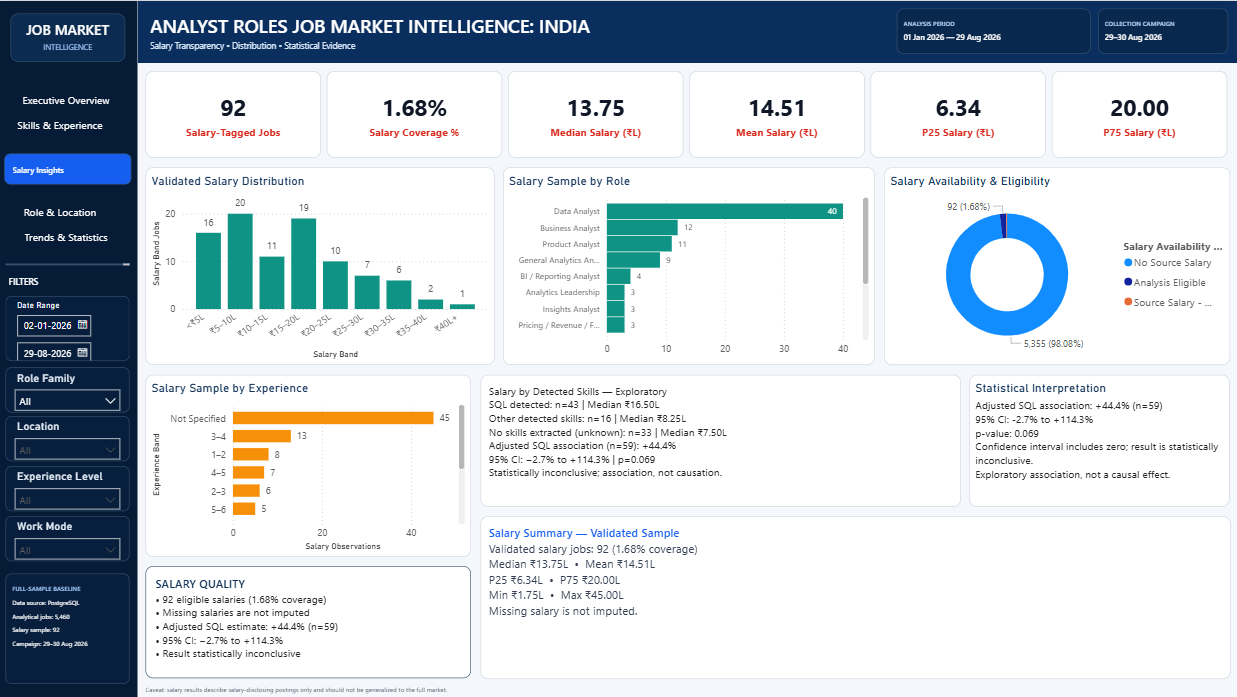

Layout of this report page (visuals, bound fields, positions):
{"tool":"powerbi","page":{"name":"Salary Insights ","canvas":[1600,900],"ordinal":2},"visuals":[{"type":"textbox","box":[0,0,180,900],"z":0},{"type":"textbox","box":[16,16,148,62],"z":1000},{"type":"textbox","box":[8,197,164,40],"z":2000},{"type":"textbox","box":[10,338,160,2],"z":3000},{"type":"textbox","box":[10,348,160,28],"z":4000},{"type":"slicer","fields":{"Values":["Jobs.Posted Date"]},"box":[10,380,160,84],"z":5000},{"type":"slicer","fields":{"Values":["Jobs.Role Family"]},"box":[10,472,160,58],"z":6000},{"type":"slicer","fields":{"Values":["Jobs.Specific City"]},"box":[10,536,160,58],"z":7000},{"type":"slicer","fields":{"Values":["Jobs.Experience Band"]},"box":[10,600,160,58],"z":8000},{"type":"slicer","fields":{"Values":["Jobs.Work Mode"]},"box":[10,664,160,58],"z":9000},{"type":"textbox","box":[10,738,160,142],"z":10000},{"type":"textbox","box":[180,0,1420,80],"z":11000},{"type":"textbox","box":[1160,10,250,58],"z":12000},{"type":"textbox","box":[1420,10,168,58],"z":13000},{"type":"columnChart","title":"Validated Salary Distribution","fields":{"Category":["Jobs.Salary Band"],"Y":["Jobs.Salary Band Jobs"]},"box":[190,215,450,255],"z":14000},{"type":"barChart","title":"Salary Sample by Role","fields":{"Category":["Jobs.Role Family"],"Y":["Jobs.Salary Observations"]},"box":[652,215,480,255],"z":15000},{"type":"donutChart","title":"Salary Availability & Eligibility","fields":{"Category":["Jobs.Salary Availability Group"],"Y":["Jobs.Analytical Vacancies"]},"box":[1144,215,446,255],"z":16000},{"type":"barChart","title":"Salary Sample by Experience","fields":{"Category":["Jobs.Experience Band"],"Y":["Jobs.Salary Observations"]},"box":[190,482,420,235],"z":17000},{"type":"textbox","box":[622,482,620,170],"z":18000},{"type":"textbox","title":"Statistical Interpretation","box":[1254,482,336,170],"z":19000},{"type":"textbox","box":[622,664,968,210],"z":20000},{"type":"textbox","box":[190,729,420,145],"z":21000},{"type":"textbox","box":[190,878,1400,18],"z":22000},{"type":"actionButton","box":[0,112,176,32],"z":23000},{"type":"card","fields":{"Values":["Jobs.Salary-Tagged Jobs"]},"box":[190,90,226,112],"z":24000},{"type":"actionButton","box":[0,144,160,32],"z":25000},{"type":"card","fields":{"Values":["Jobs.Salary Coverage %"]},"box":[424,90,226,112],"z":26000},{"type":"card","fields":{"Values":["Jobs.Median Salary (₹L)"]},"box":[658,90,226,112],"z":27000},{"type":"card","fields":{"Values":["Jobs.Mean Salary (₹L)"]},"box":[892,90,226,112],"z":28000},{"type":"card","fields":{"Values":["Jobs.P25 Salary (₹L)"]},"box":[1126,90,226,112],"z":29000},{"type":"card","fields":{"Values":["Jobs.P75 Salary (₹L)"]},"box":[1360,90,226,112],"z":30000},{"type":"actionButton","box":[0,256,160,32],"z":31000},{"type":"actionButton","box":[0,288,176,32],"z":32000}]}

Visuals, with their boxes on the page's 1600x900 design canvas (x1, y1, x2, y2). These are canvas units, not pixel positions in the 1237x697 screenshot, which may show the page scaled, cropped or inside an application window:
textbox: pyautogui.locateOnScreen(0, 0, 180, 900)
textbox: pyautogui.locateOnScreen(16, 16, 164, 78)
textbox: pyautogui.locateOnScreen(8, 197, 172, 237)
textbox: pyautogui.locateOnScreen(10, 338, 170, 340)
textbox: pyautogui.locateOnScreen(10, 348, 170, 376)
slicer - Jobs.Posted Date: pyautogui.locateOnScreen(10, 380, 170, 464)
slicer - Jobs.Role Family: pyautogui.locateOnScreen(10, 472, 170, 530)
slicer - Jobs.Specific City: pyautogui.locateOnScreen(10, 536, 170, 594)
slicer - Jobs.Experience Band: pyautogui.locateOnScreen(10, 600, 170, 658)
slicer - Jobs.Work Mode: pyautogui.locateOnScreen(10, 664, 170, 722)
textbox: pyautogui.locateOnScreen(10, 738, 170, 880)
textbox: pyautogui.locateOnScreen(180, 0, 1600, 80)
textbox: pyautogui.locateOnScreen(1160, 10, 1410, 68)
textbox: pyautogui.locateOnScreen(1420, 10, 1588, 68)
"Validated Salary Distribution" columnChart: pyautogui.locateOnScreen(190, 215, 640, 470)
"Salary Sample by Role" barChart: pyautogui.locateOnScreen(652, 215, 1132, 470)
"Salary Availability & Eligibility" donutChart: pyautogui.locateOnScreen(1144, 215, 1590, 470)
"Salary Sample by Experience" barChart: pyautogui.locateOnScreen(190, 482, 610, 717)
textbox: pyautogui.locateOnScreen(622, 482, 1242, 652)
"Statistical Interpretation" textbox: pyautogui.locateOnScreen(1254, 482, 1590, 652)
textbox: pyautogui.locateOnScreen(622, 664, 1590, 874)
textbox: pyautogui.locateOnScreen(190, 729, 610, 874)
textbox: pyautogui.locateOnScreen(190, 878, 1590, 896)
actionButton: pyautogui.locateOnScreen(0, 112, 176, 144)
card - Jobs.Salary-Tagged Jobs: pyautogui.locateOnScreen(190, 90, 416, 202)
actionButton: pyautogui.locateOnScreen(0, 144, 160, 176)
card - Jobs.Salary Coverage %: pyautogui.locateOnScreen(424, 90, 650, 202)
card - Jobs.Median Salary (₹L): pyautogui.locateOnScreen(658, 90, 884, 202)
card - Jobs.Mean Salary (₹L): pyautogui.locateOnScreen(892, 90, 1118, 202)
card - Jobs.P25 Salary (₹L): pyautogui.locateOnScreen(1126, 90, 1352, 202)
card - Jobs.P75 Salary (₹L): pyautogui.locateOnScreen(1360, 90, 1586, 202)
actionButton: pyautogui.locateOnScreen(0, 256, 160, 288)
actionButton: pyautogui.locateOnScreen(0, 288, 176, 320)
